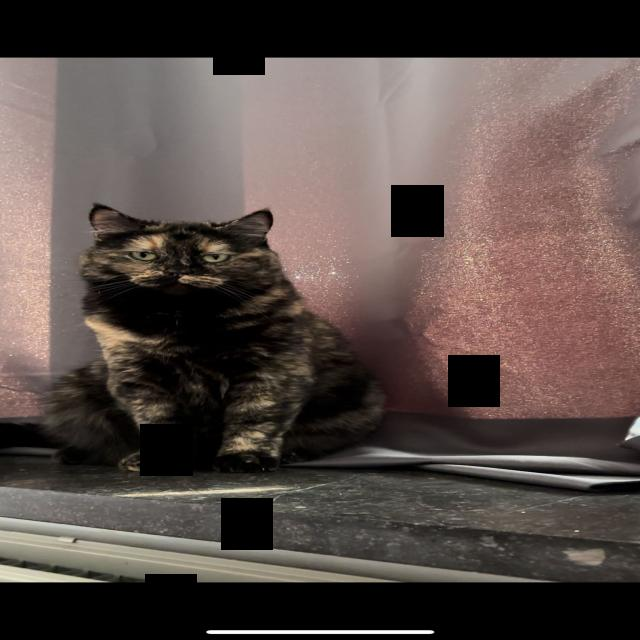authorized: (34, 202, 388, 474)
